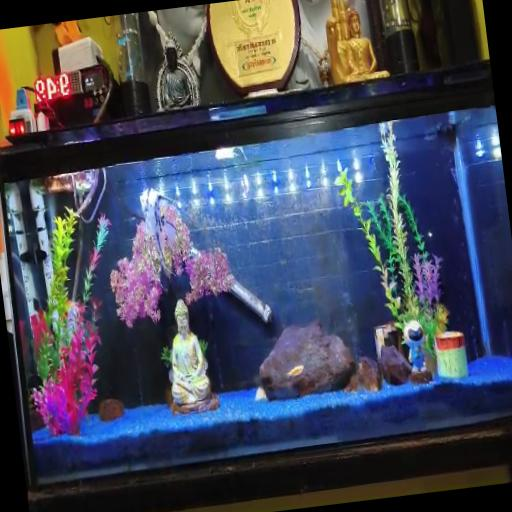Fish: (139, 189, 175, 274), (287, 365, 303, 377)
